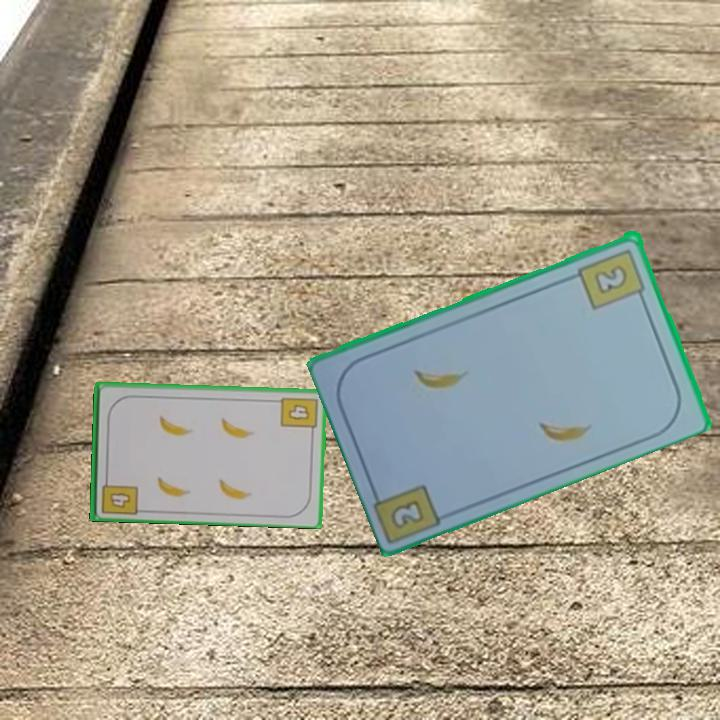2b: (575, 244, 649, 312), (387, 495, 428, 532)
4b: (97, 472, 140, 517), (277, 394, 320, 437)
